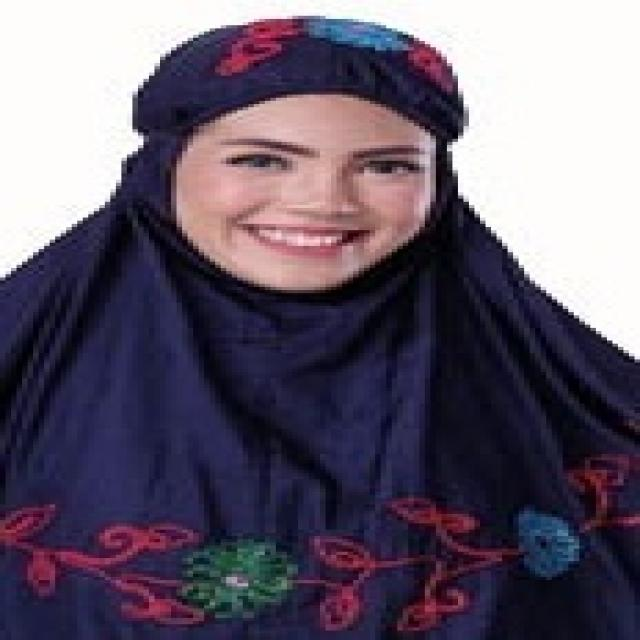head: (115, 14, 497, 301)
